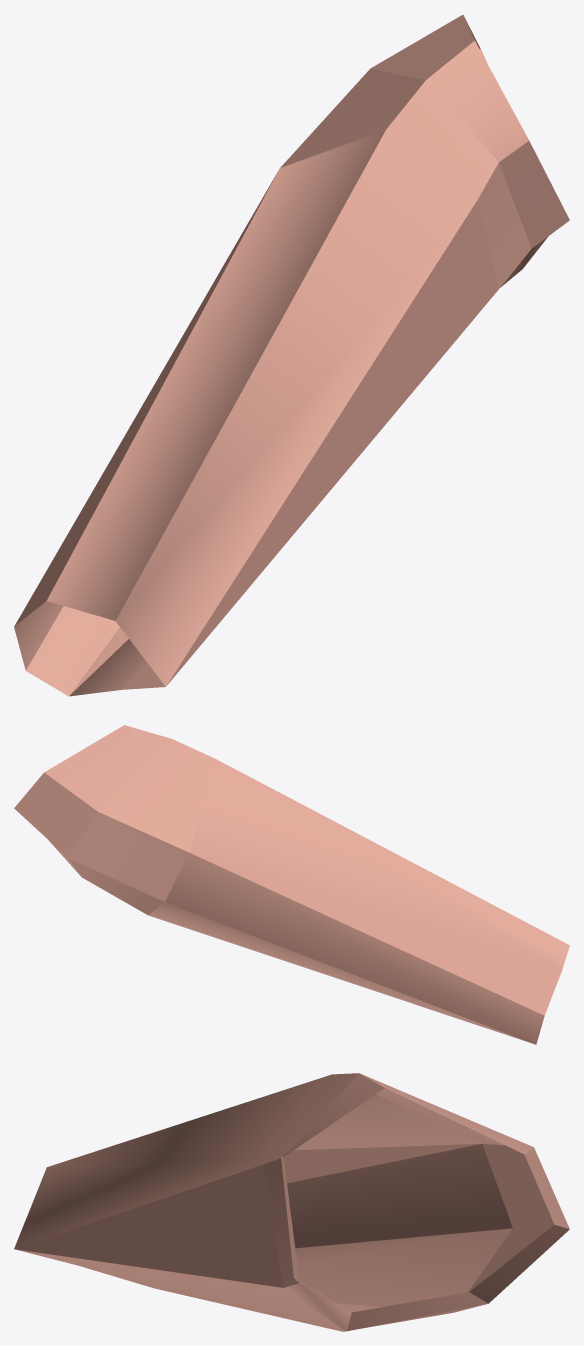
Rendered from cutrmumrforearm.fbx.
3 views of the same model, one above another, from view 1: azimuth 30°, elevation 25°; view 2: azimuth 150°, elevation 25°; view 3: azimuth 270°, elevation 25° (orthographic). The views are drawn at different scales.
Parts seen in each view (by area): view 1: mum.019; view 2: mum.019; view 3: mum.019.
Part boxes in pixels (x1,y1,x2,y2): mum.019: (14, 15, 569, 696); mum.019: (14, 725, 569, 1044); mum.019: (14, 1073, 569, 1331).
Size of the model in its own units: 27.49 by 18.22 by 19.94.
